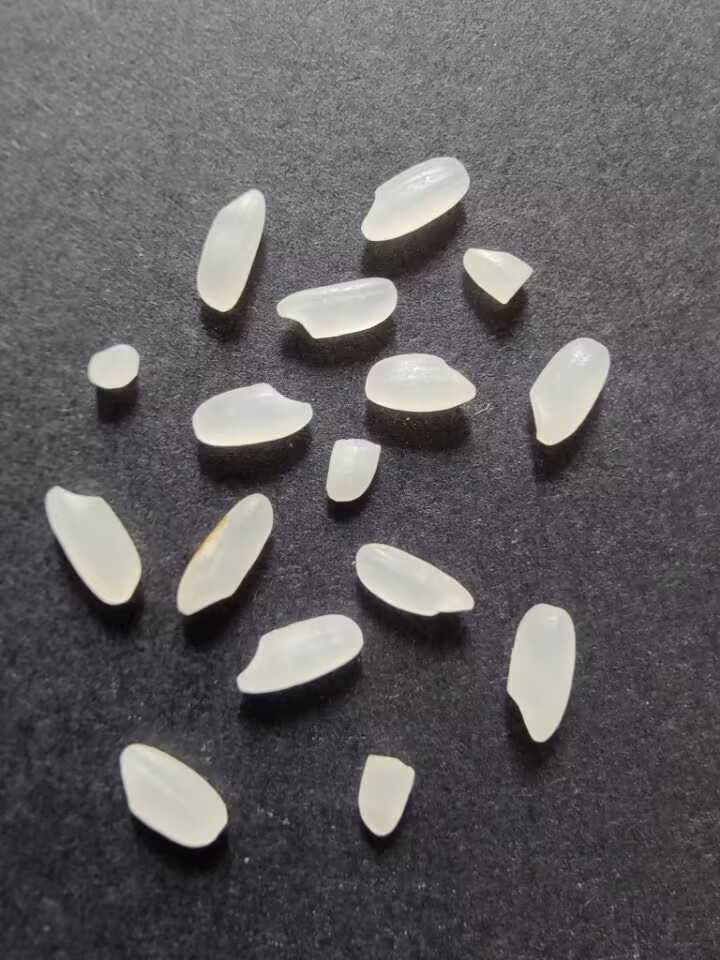broken: (352, 753, 421, 838), (459, 241, 537, 309), (320, 433, 385, 507), (86, 343, 140, 389)
rice: (118, 736, 232, 854), (42, 482, 146, 611), (173, 490, 275, 617), (500, 598, 581, 745), (229, 613, 367, 699), (350, 536, 479, 626), (354, 152, 478, 244), (522, 333, 615, 449), (192, 185, 273, 316), (185, 377, 316, 449), (269, 273, 398, 341), (357, 351, 479, 416)
